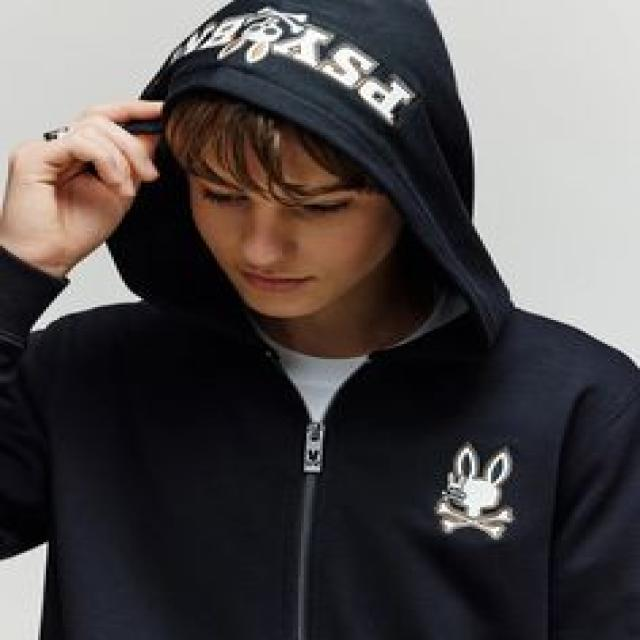4_capucha: (136, 0, 515, 358)
